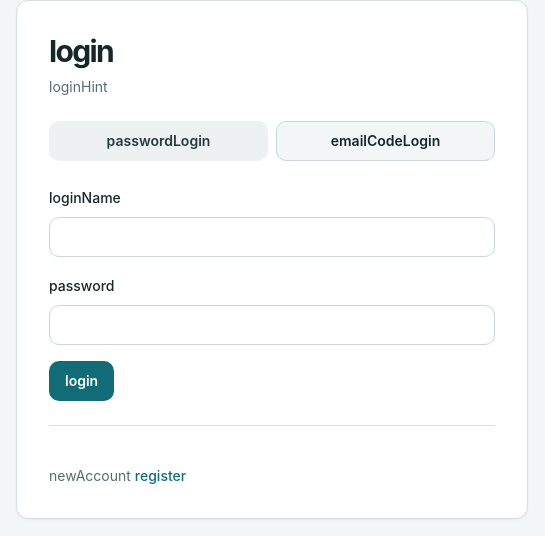
Test: shows a localized rate-limit message beside the code request form
Click the button "emailCodeLogin": (386, 141) [276,121,495,161]
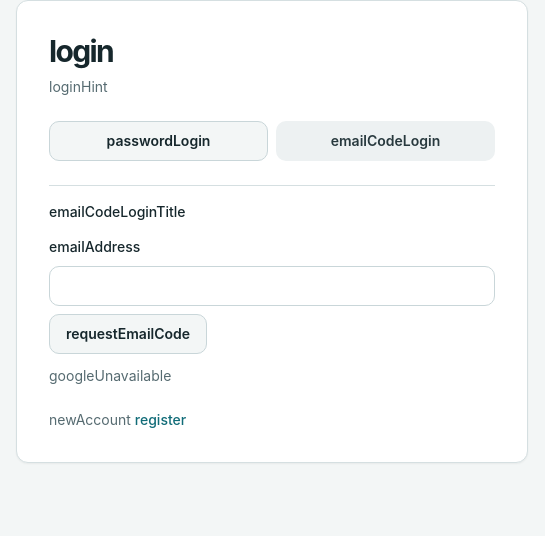
In the field labelled "emailAddress": (272, 286) [49,266,495,306], type "user@gmail.com"
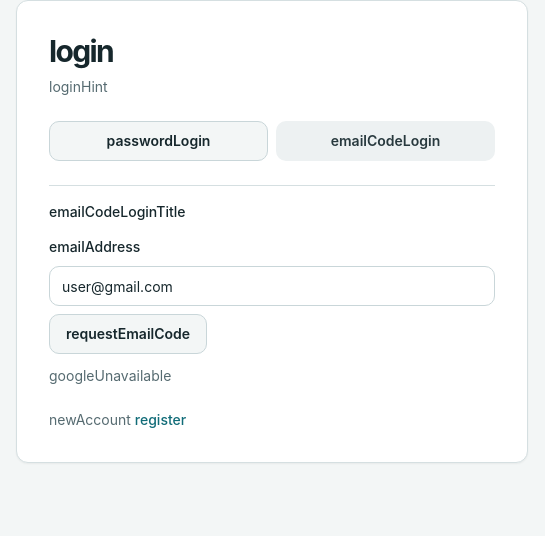
Click the button "requestEmailCode": (128, 334) [49,314,207,354]
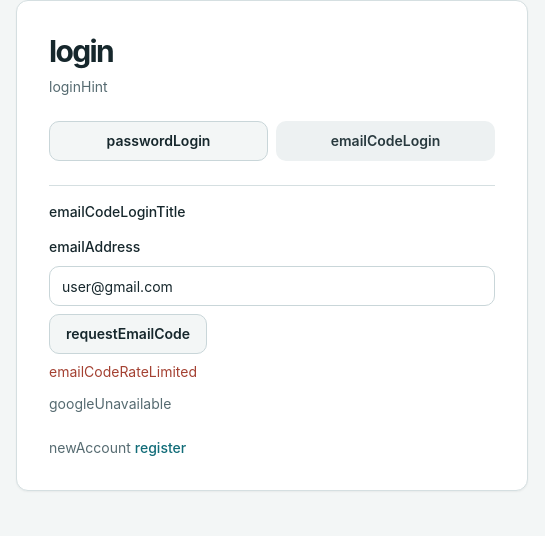
Now the message reads "emailCodeRateLimited", box [49,363,197,380]
